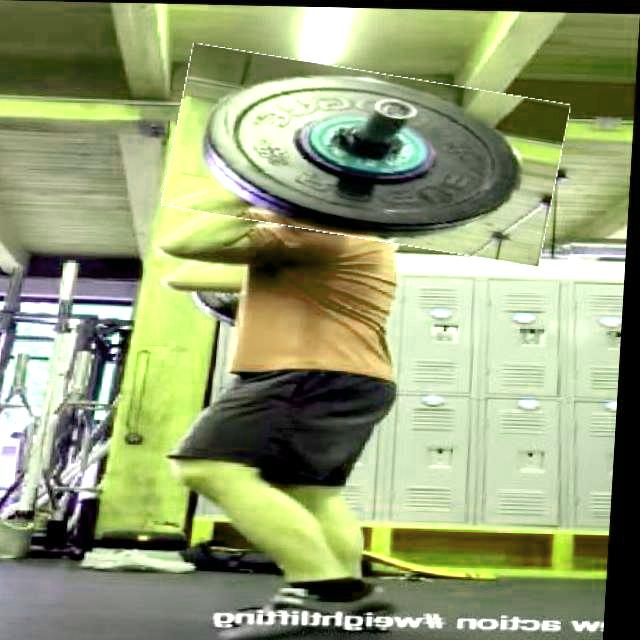barbell: (167, 55, 569, 252)
